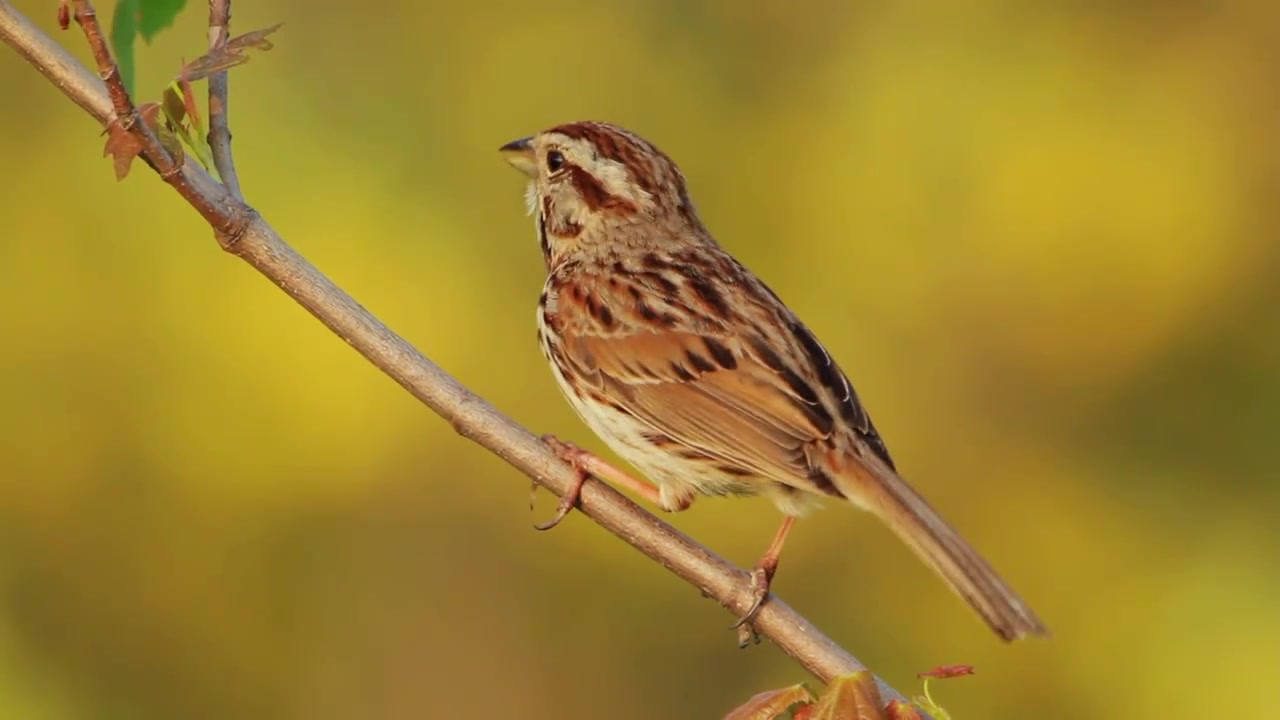bird: (498, 118, 1052, 656)
